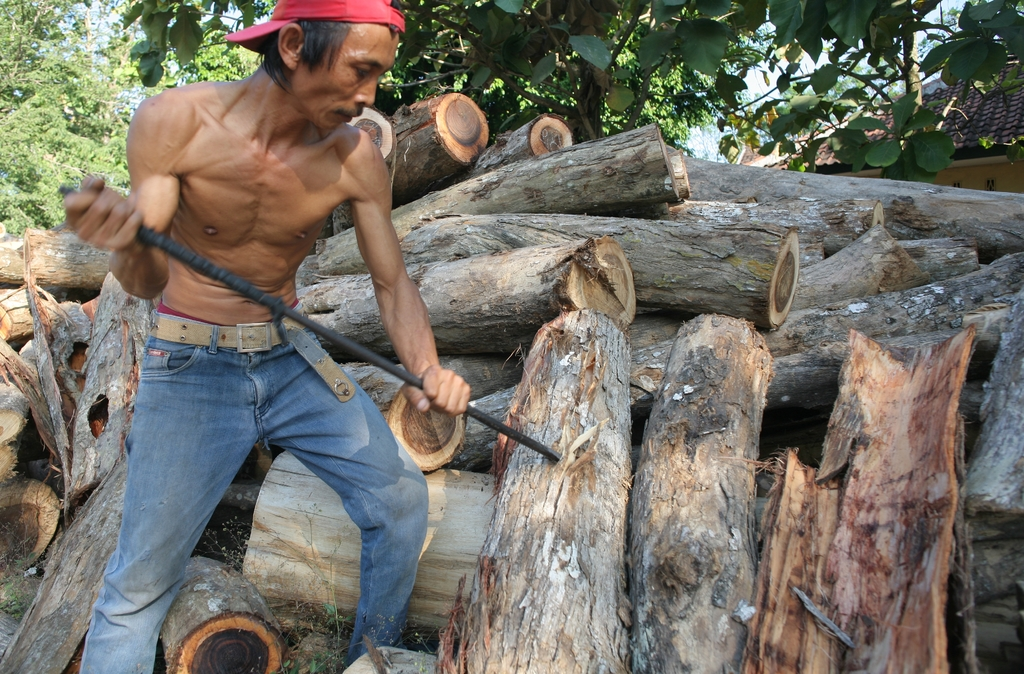Person: (63, 0, 471, 674)
